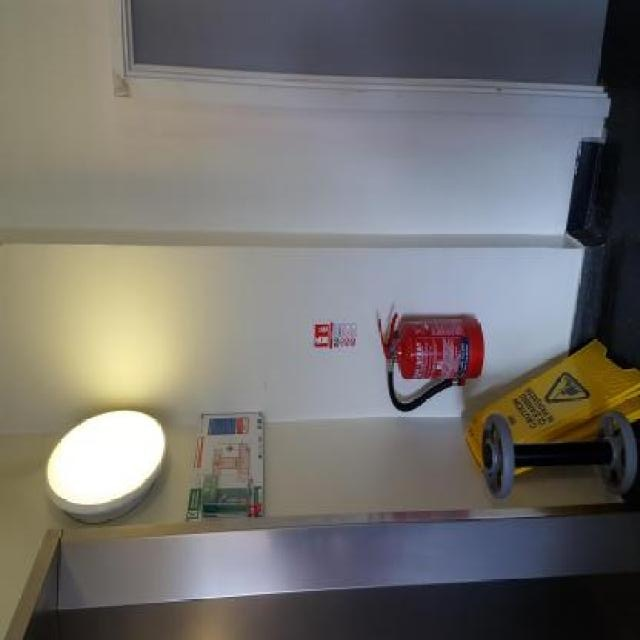fire extinguisher: (377, 308, 485, 412)
